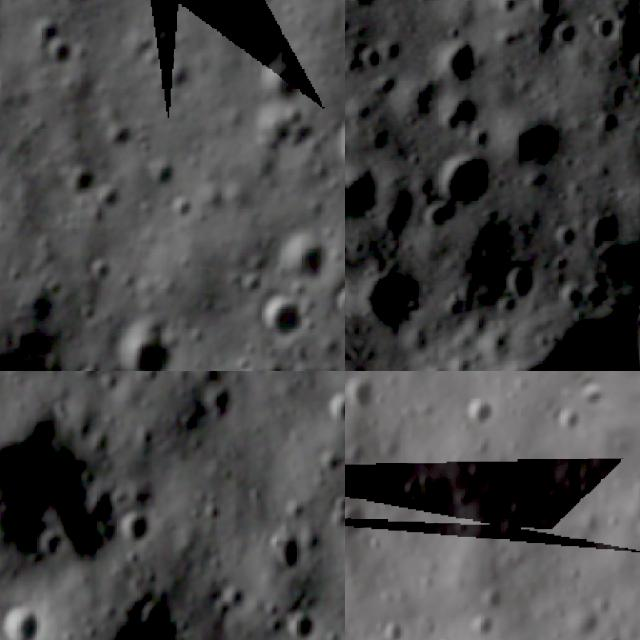crater: (0, 387, 137, 581), (41, 586, 232, 640), (417, 154, 501, 236), (354, 265, 437, 337), (265, 223, 344, 297), (247, 282, 316, 352), (247, 43, 321, 108), (109, 312, 188, 371), (311, 80, 345, 217), (32, 26, 94, 85), (431, 37, 503, 84), (452, 381, 509, 437), (55, 154, 112, 208), (128, 151, 186, 203), (345, 491, 388, 551), (99, 115, 148, 162), (345, 371, 393, 417), (118, 502, 161, 552), (270, 530, 311, 582), (544, 396, 590, 442), (359, 603, 416, 640), (197, 373, 239, 422), (477, 574, 522, 618), (0, 598, 45, 640), (35, 522, 76, 566), (278, 602, 325, 640), (504, 268, 542, 311), (317, 383, 345, 434), (466, 609, 511, 640), (325, 273, 345, 337)
